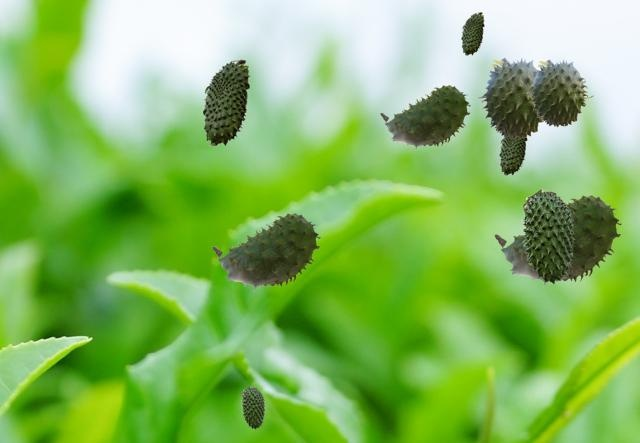guyabano: (494, 195, 620, 286), (212, 213, 319, 290), (380, 85, 469, 149), (477, 56, 541, 138), (521, 188, 574, 283), (526, 58, 593, 126), (202, 59, 249, 145), (499, 137, 526, 174), (241, 386, 264, 428), (461, 12, 483, 54)
